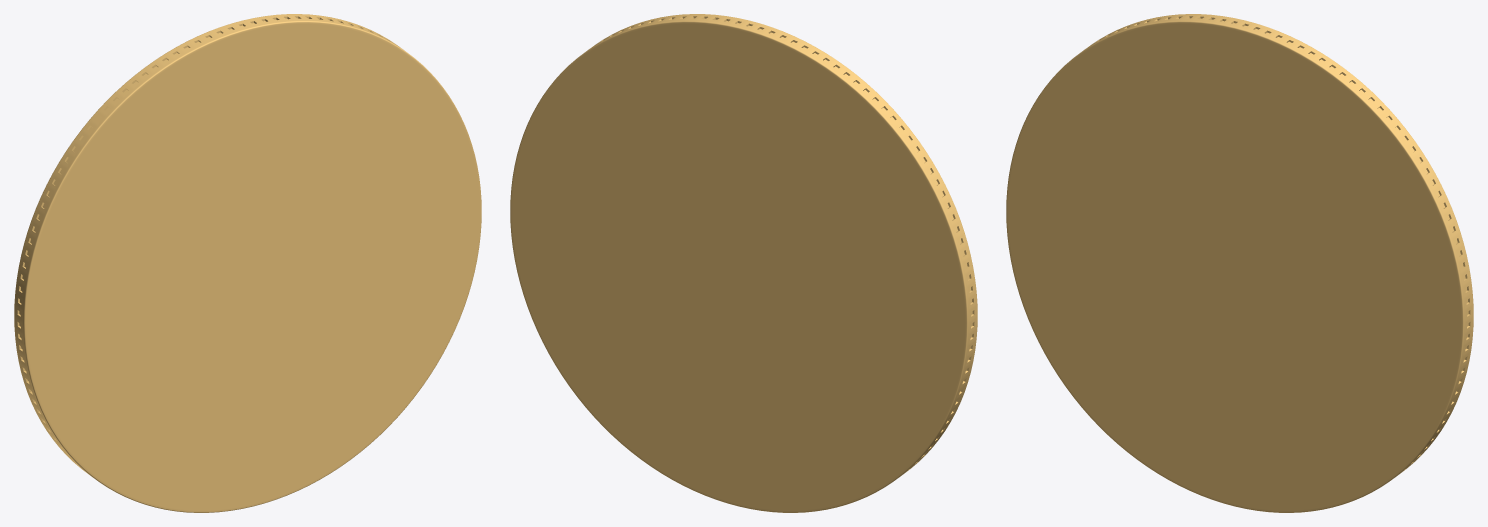
3 views of the same model, side by side, from view 1: azimuth 30°, elevation 25°; view 2: azimuth 150°, elevation 25°; view 3: azimuth 330°, elevation 25° (orthographic).
Parts seen in each view (by area): view 1: Cylinder.001; view 2: Cylinder.001; view 3: Cylinder.001.
Boxes of the visible parts, bbox=[...] form: Cylinder.001: bbox=[14, 14, 481, 512]; Cylinder.001: bbox=[510, 14, 977, 512]; Cylinder.001: bbox=[1006, 14, 1473, 512].
Size of the model in its own units: 2 by 2 by 0.08.
